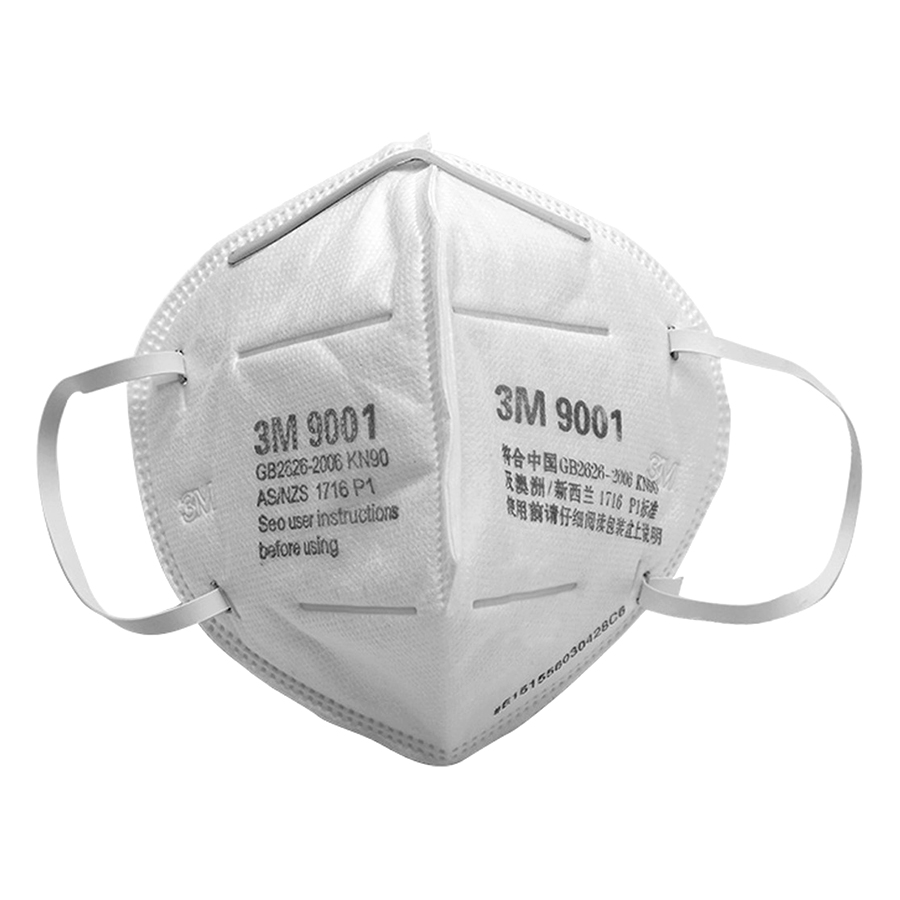3M: (480, 367, 552, 436), (239, 408, 309, 460), (169, 474, 227, 532), (648, 442, 681, 493)
